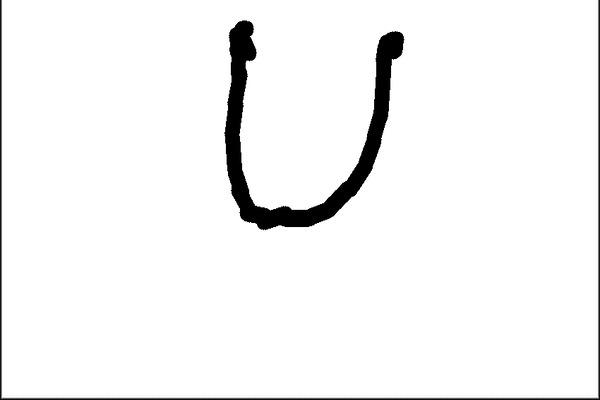U: (212, 12, 408, 231)
